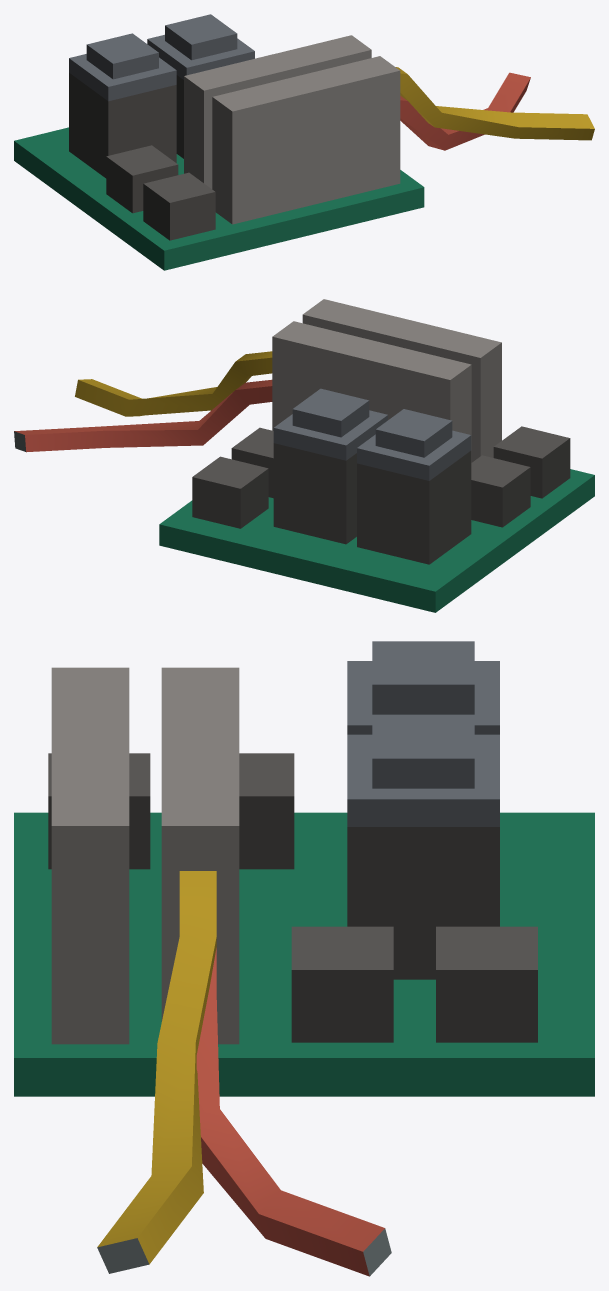
The model's file is AI_Item_Scrap_Electronics_02.fbx.
3 views of the same model, one above another, from view 1: azimuth 30°, elevation 25°; view 2: azimuth 150°, elevation 25°; view 3: azimuth 270°, elevation 25° (orthographic). The views are drawn at different scales.
Parts seen in each view (by area): view 1: AI_Item_Scrap_Electronics_02; view 2: AI_Item_Scrap_Electronics_02; view 3: AI_Item_Scrap_Electronics_02.
Boxes of the visible parts, x1,y1,x2,y2 form: AI_Item_Scrap_Electronics_02: [14, 14, 594, 270]; AI_Item_Scrap_Electronics_02: [14, 299, 594, 612]; AI_Item_Scrap_Electronics_02: [14, 641, 594, 1276].
Size of the model in its own units: 0.9588 by 0.2712 by 0.5458.
